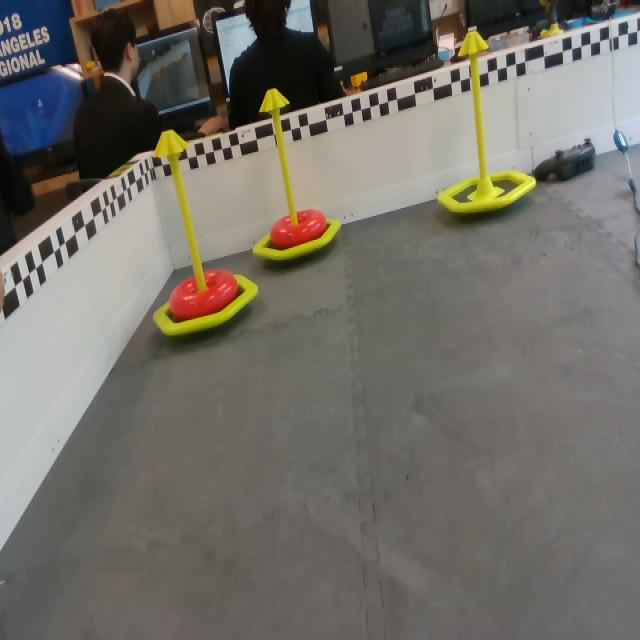Mobile-Goal: (149, 120, 260, 349), (431, 31, 539, 218), (249, 86, 345, 262)
Red-Ring: (174, 269, 241, 320), (271, 208, 328, 252)
Yellow-Stake-Head: (153, 128, 190, 157), (458, 30, 489, 56), (259, 88, 290, 113)
